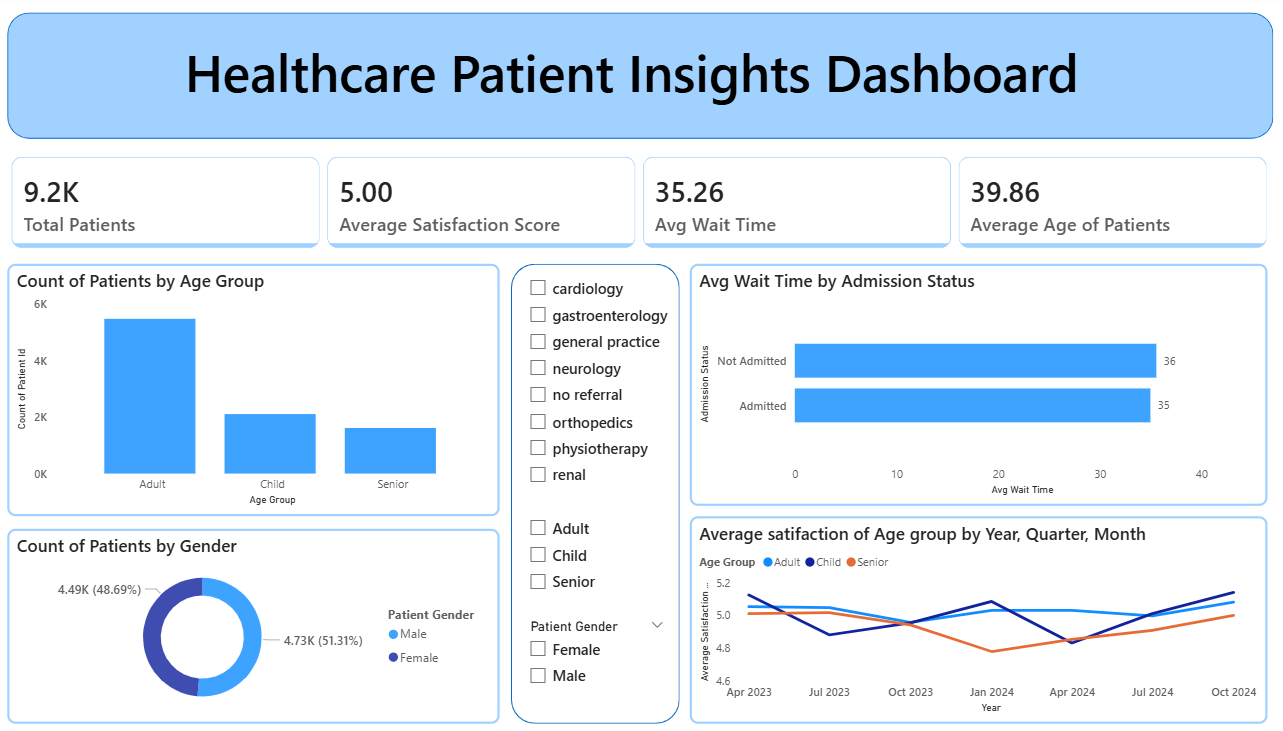

The page's visual inventory and layout, read from the dashboard file:
{"tool":"powerbi","page":{"name":"Page 1","canvas":[1400,800],"ordinal":0},"visuals":[{"type":"shape","box":[559.8,286.7,183.4,500],"z":0},{"type":"shape","box":[12.2,13.6,1376.4,137.2],"z":1000},{"type":"textbox","box":[187.5,34,1006.8,97.8],"z":2000},{"type":"cardVisual","fields":{"Data":["healthcare hospital_admission_data.Total Patients","healthcare hospital_admission_data.Average Satisfaction Score","healthcare hospital_admission_data.Avg Wait Time","healthcare hospital_admission_data.Average age"]},"box":[0,153.5,1399.5,133.2],"z":3000},{"type":"columnChart","title":"Count of Patients  by Age Group","fields":{"Y":["CountNonNull(healthcare hospital_admission_data.Patient Id)"],"Category":["healthcare hospital_admission_data.Age Group"]},"box":[12.2,286.7,535.3,274.5],"z":4000},{"type":"donutChart","title":"Count of Patients by Gender","fields":{"Y":["CountNonNull(healthcare hospital_admission_data.Patient Id)"],"Category":["healthcare hospital_admission_data.Patient Gender"]},"box":[12.2,574.7,535.3,212],"z":5000},{"type":"barChart","fields":{"Y":["healthcare hospital_admission_data.Avg Wait Time"],"Category":["healthcare hospital_admission_data.Admission Status"]},"box":[754.1,286.7,627.7,263.6],"z":6000},{"type":"lineChart","title":"Average satifaction  of Age group by Year, Quarter, Month","fields":{"Y":["healthcare hospital_admission_data.Average Satisfaction Score"],"Series":["healthcare hospital_admission_data.Age Group"],"Category":["healthcare hospital_admission_data.Patient Admission Date.Variation.Date Hierarchy.Year","healthcare hospital_admission_data.Patient Admission Date.Variation.Date Hierarchy.Quarter","healthcare hospital_admission_data.Patient Admission Date.Variation.Date Hierarchy.Month"]},"box":[754.1,561.1,627.7,225.5],"z":7000},{"type":"slicer","fields":{"Values":["healthcare hospital_admission_data.Department Referral"]},"box":[567.9,293.5,169.8,256.8],"z":8000},{"type":"slicer","fields":{"Values":["healthcare hospital_admission_data.Patient Gender"]},"box":[567.9,667.1,169.8,96.5],"z":9000},{"type":"slicer","fields":{"Values":["healthcare hospital_admission_data.Age Group"]},"box":[567.9,554.4,169.8,103.3],"z":10000}]}

Visuals, with their boxes in screenshot pixels (x1, y1, x2, y2), scaled from the page's 1400x800 canvas onto the 1283x731 screenshot:
shape: (513, 262, 681, 719)
shape: (11, 12, 1273, 138)
textbox: (172, 31, 1094, 120)
cardVisual - healthcare hospital_admission_data.Total Patients x healthcare hospital_admission_data.Average Satisfaction Score: (0, 140, 1282, 262)
"Count of Patients  by Age Group" columnChart: (11, 262, 502, 513)
"Count of Patients by Gender" donutChart: (11, 525, 502, 719)
barChart - healthcare hospital_admission_data.Avg Wait Time x healthcare hospital_admission_data.Admission Status: (691, 262, 1266, 503)
"Average satifaction  of Age group by Year, Quarter, Month" lineChart: (691, 513, 1266, 719)
slicer - healthcare hospital_admission_data.Department Referral: (520, 268, 676, 503)
slicer - healthcare hospital_admission_data.Patient Gender: (520, 610, 676, 698)
slicer - healthcare hospital_admission_data.Age Group: (520, 507, 676, 601)
